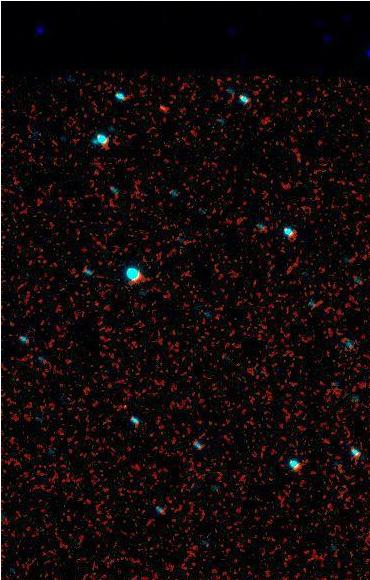star: (148, 93, 178, 123)
